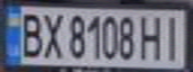0: (100, 12, 121, 60)
1: (84, 11, 103, 60)
8: (63, 11, 87, 60), (115, 12, 139, 61)
B: (15, 9, 45, 60)
H: (136, 12, 166, 61)
I: (157, 11, 187, 61)
X: (39, 10, 66, 60)
